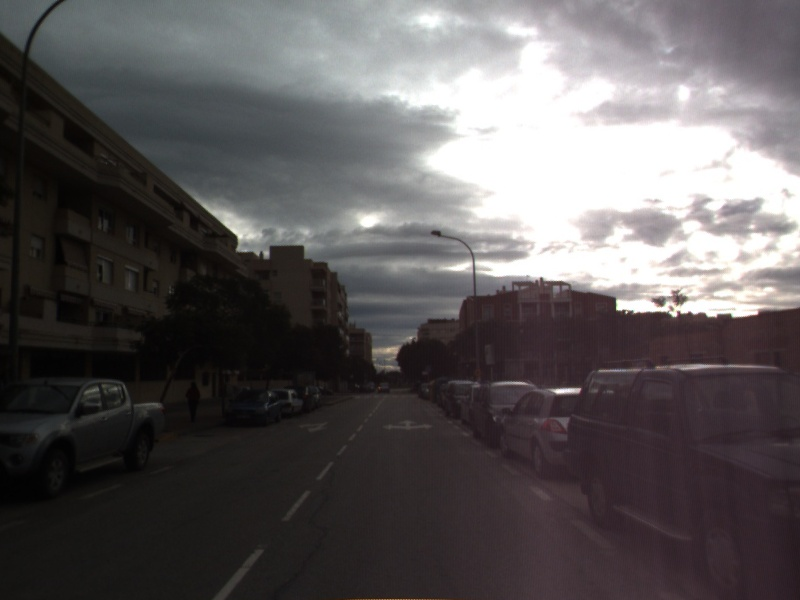STRAIGHT_LEFT_RIGHT: (380, 417, 435, 433)
